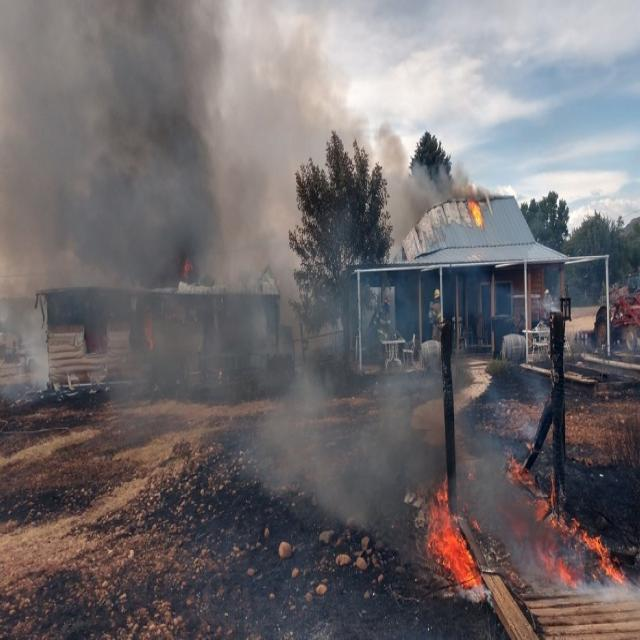Fire: (503, 450, 628, 590), (422, 476, 484, 588), (466, 198, 484, 231)
Smoke: (1, 1, 420, 603), (424, 330, 506, 480), (421, 160, 469, 216)
